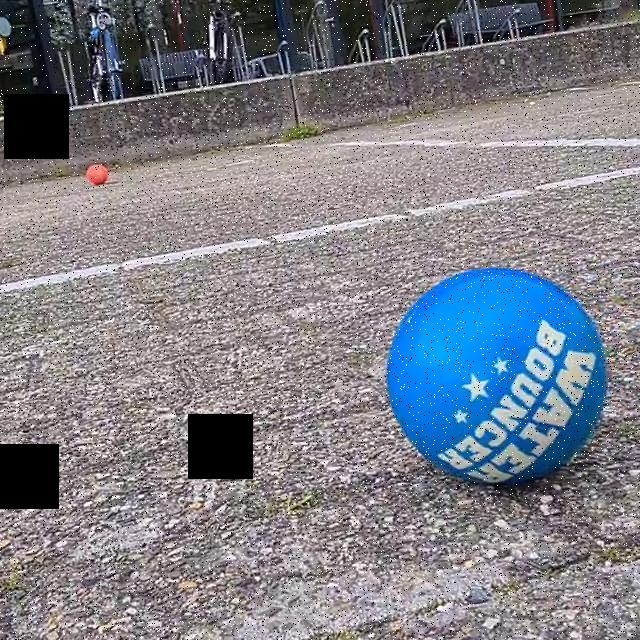ball: (84, 159, 108, 190)
